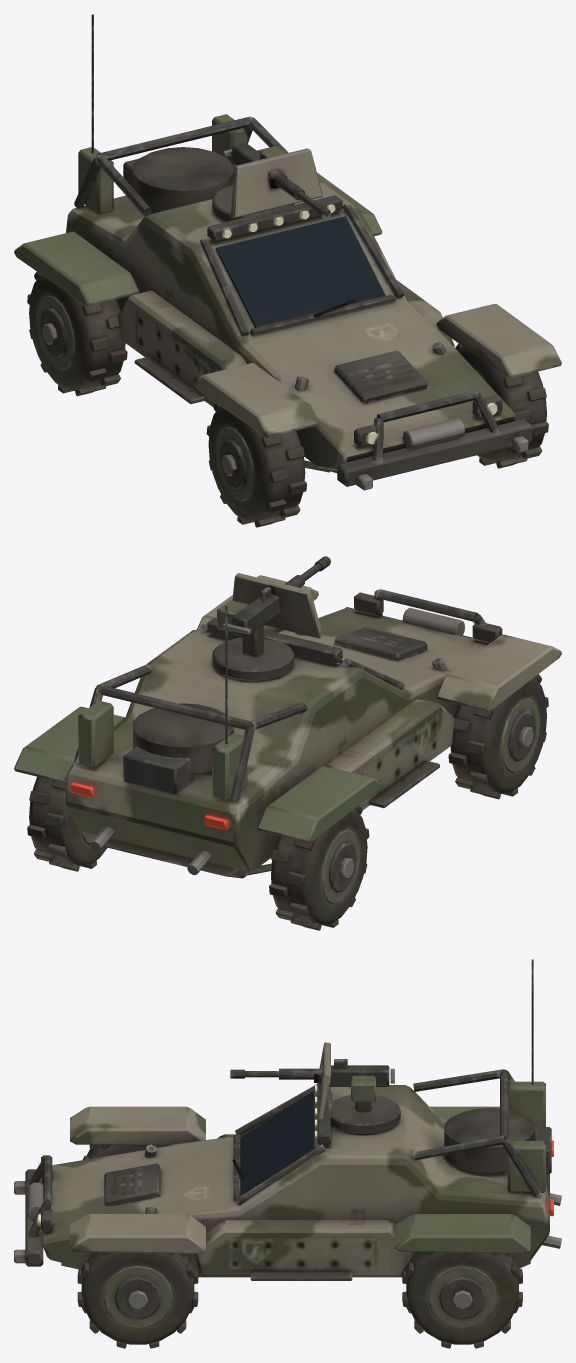
The model's file is hs_buggy_lod0m.glb.
The picture shows the model from 3 angles, top to bottom: view 1: azimuth 30°, elevation 25°; view 2: azimuth 150°, elevation 25°; view 3: azimuth 270°, elevation 25°; orthographic projection. The views are drawn at different scales.
Size of the model in its own units: 2.8 by 2.94 by 4.86.
1 material, 1 textured.
